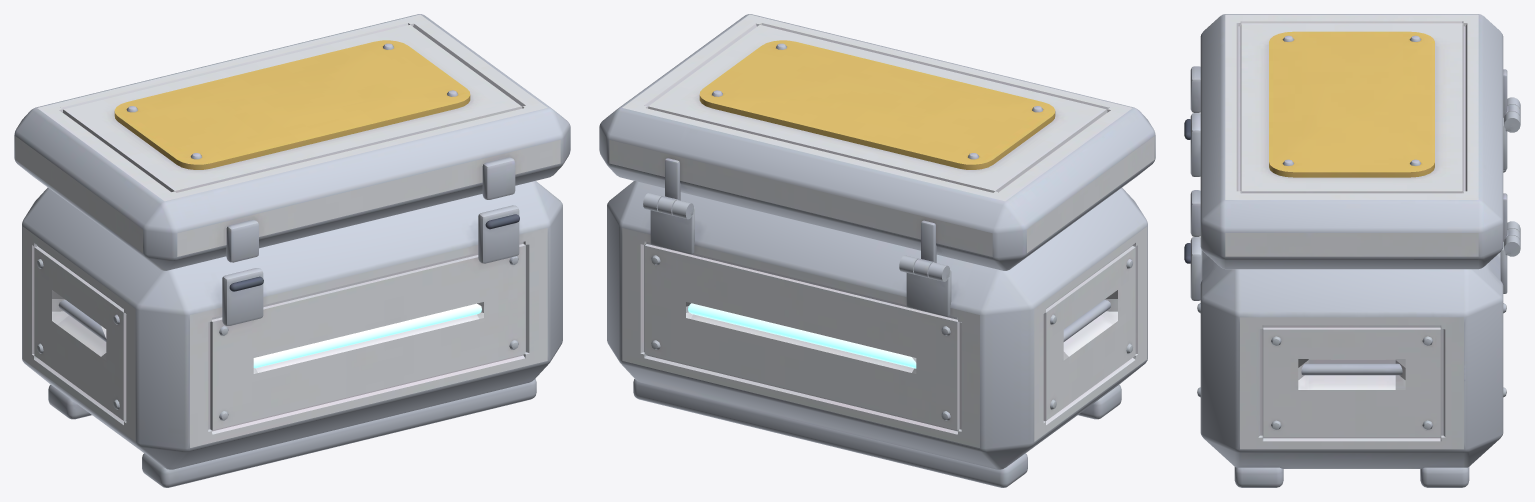
Rendered from sci-fi-crate.glb.
The picture shows the model from 3 angles, left to right: view 1: azimuth 30°, elevation 25°; view 2: azimuth 150°, elevation 25°; view 3: azimuth 270°, elevation 25°; orthographic projection.
Parts seen in each view (by area): view 1: sci-fi-crate_body, sci-fi-crate_lid, sci-fi-crate_light_strip_glow; view 2: sci-fi-crate_body, sci-fi-crate_lid, sci-fi-crate_light_strip_glow; view 3: sci-fi-crate_lid, sci-fi-crate_body.
Boxes of the visible parts, x1=… form: sci-fi-crate_body: x1=22, y1=181, x2=562, y2=487; sci-fi-crate_lid: x1=14, y1=14, x2=570, y2=270; sci-fi-crate_light_strip_glow: x1=253, y1=303, x2=481, y2=368; sci-fi-crate_body: x1=607, y1=181, x2=1147, y2=487; sci-fi-crate_lid: x1=599, y1=14, x2=1155, y2=278; sci-fi-crate_light_strip_glow: x1=688, y1=303, x2=916, y2=368; sci-fi-crate_lid: x1=1190, y1=14, x2=1520, y2=269; sci-fi-crate_body: x1=1184, y1=97, x2=1520, y2=487.
Bounding box in the file's own units: 1.01 × 0.68 × 0.688.
3 materials, 2 textured.
